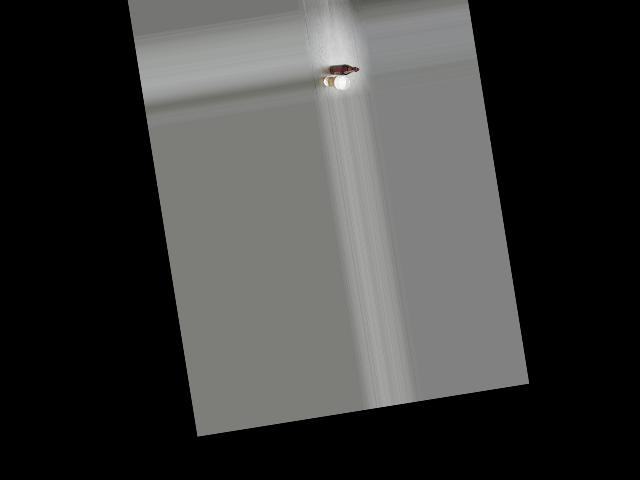beer: (327, 60, 359, 77)
